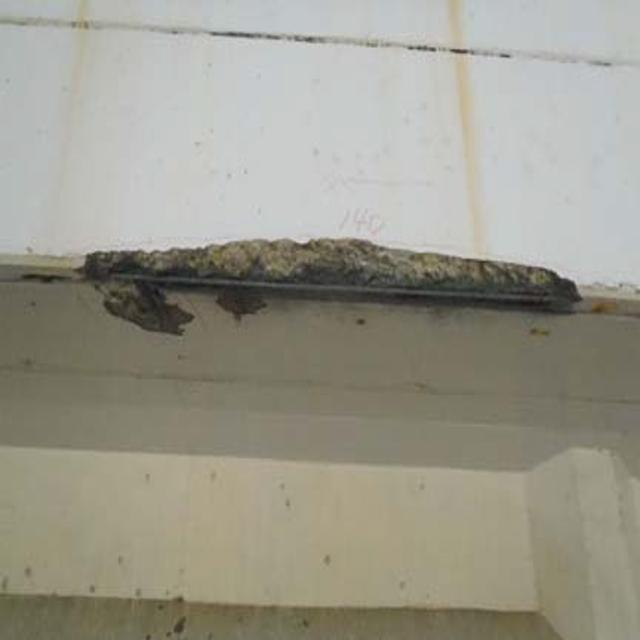spalling: (76, 194, 583, 337)
